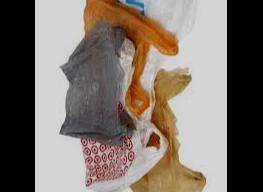Plastic: (81, 0, 182, 119), (56, 22, 138, 148), (73, 95, 170, 191)
